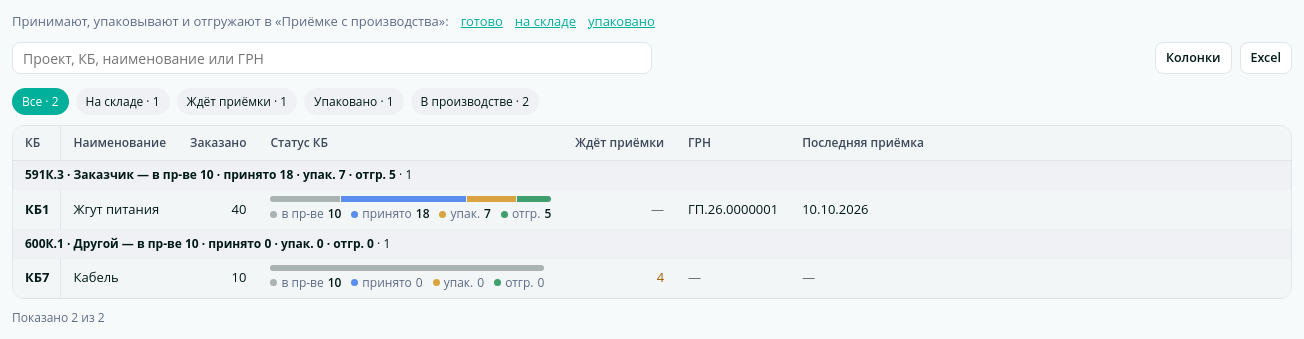
Test: Склад → Готовая продукция › shows pieces per state by project and КБ, read-only, with what waits for acceptance
Expected: the text "591К.3 · Заказчик — в пр-ве 10 · принято 18 · упак. 7 · отгр. 5" is shown, [25,166,396,183]
Expected: the picture named "в производстве 10 шт, принято складом 18 шт, упаковано 7 шт, отгружено 5 шт" is shown, [270,196,551,223]
Click the button "Ждёт приёмки · 1". click: [237, 102]
box: [176,88,297,115]
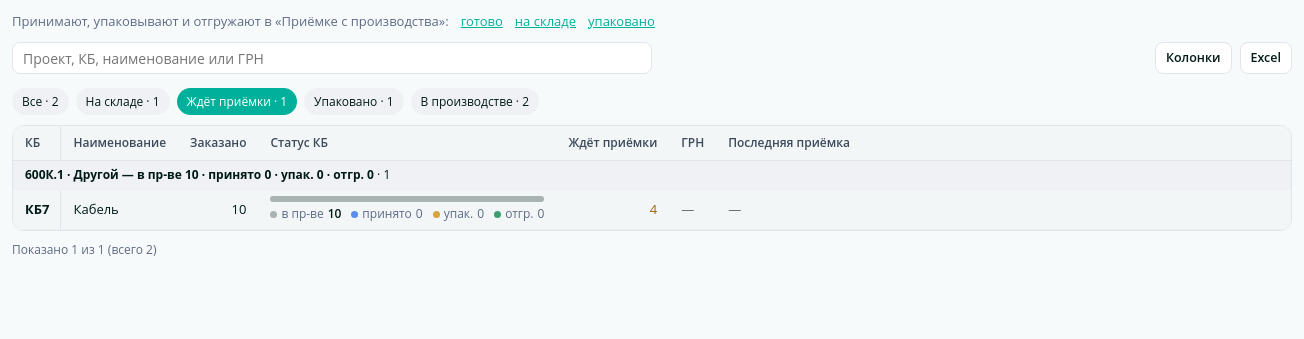
Expected: the text "КБ7" is shown, [25,201,50,218]
Now the text "ГП.26.0000001" is gone
